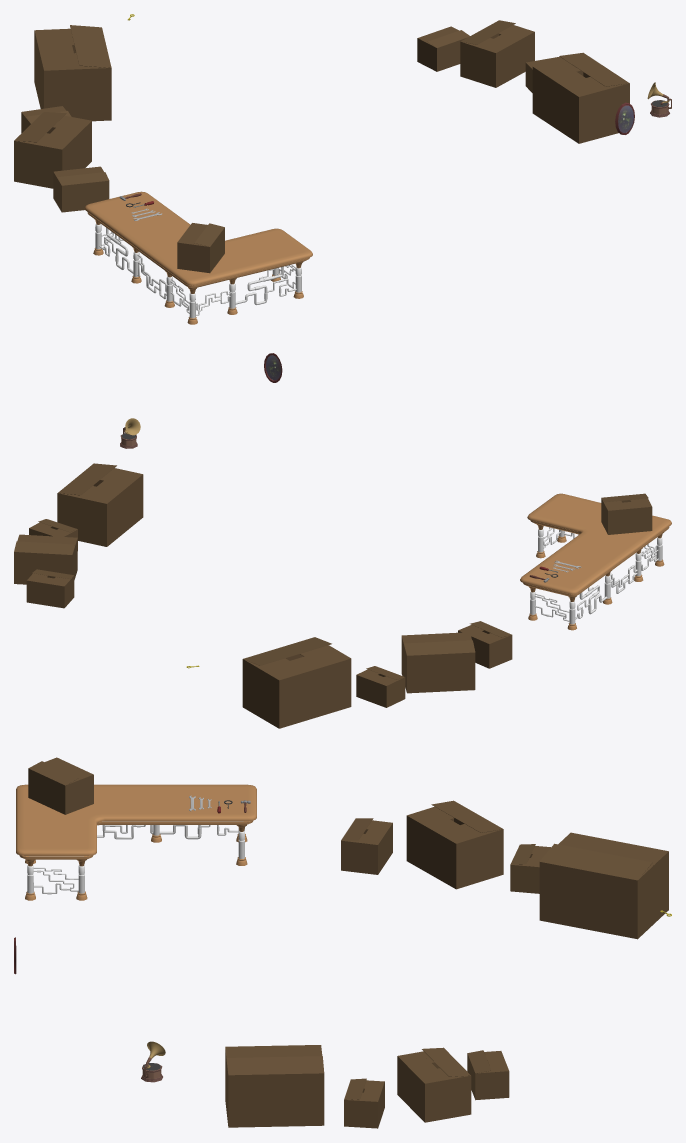
Rendered from objz.fbx.
The picture shows the model from 3 angles, top to bottom: view 1: azimuth 30°, elevation 25°; view 2: azimuth 150°, elevation 25°; view 3: azimuth 270°, elevation 25°; orthographic projection. The views are drawn at different scales.
Visible parts, largest first — view 1: Packages, WorkBench, Frame_03; view 2: Packages, WorkBench; view 3: Packages, WorkBench, Gramophone_Body.
Boxes of the visible parts, box(x1,y1,x2,y2) form: Packages: box(14, 20, 629, 273); WorkBench: box(84, 191, 312, 324); Frame_03: box(615, 102, 634, 134); Packages: box(14, 463, 652, 728); WorkBench: box(520, 493, 671, 630); Packages: box(28, 757, 668, 1128); WorkBench: box(16, 784, 256, 900); Gramophone_Body: box(141, 1041, 165, 1082).
Bounding box in the file's own units: 1493 × 320 × 1408.
Materials: 27 (1 with a texture image).
